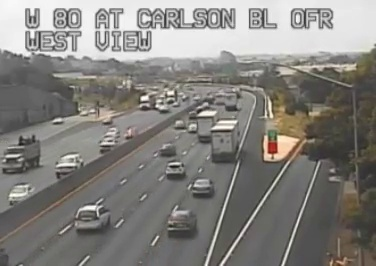car: (75, 205, 109, 230), (168, 211, 195, 231), (193, 179, 213, 194), (165, 162, 185, 176), (160, 143, 175, 156)
truck: (212, 120, 238, 159), (197, 110, 216, 140)
